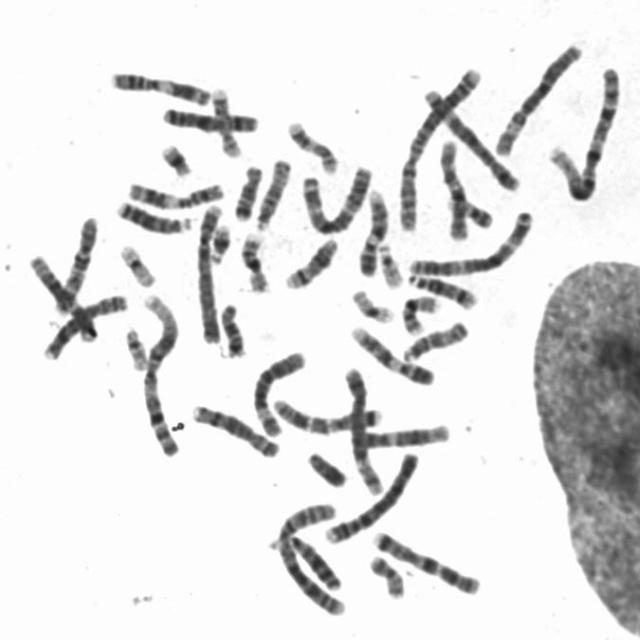A1: (541, 60, 624, 204), (135, 286, 185, 460)
A2: (390, 59, 486, 234), (267, 494, 348, 618)
A3: (401, 202, 539, 278), (294, 157, 375, 236)
B4: (319, 444, 423, 546), (188, 195, 226, 345)
B5: (414, 77, 522, 193), (337, 360, 386, 496)
C10: (48, 208, 100, 316), (432, 131, 472, 242)
C11: (102, 63, 214, 107), (120, 172, 227, 210)
C12: (22, 246, 100, 344), (347, 415, 453, 450)
C6: (486, 34, 586, 158), (245, 342, 309, 438)
C7: (365, 523, 485, 597), (266, 392, 384, 436)
C8: (37, 287, 130, 362), (184, 396, 282, 459)
C9: (344, 318, 437, 387), (351, 181, 392, 278)
D13: (268, 521, 345, 594), (110, 193, 193, 236)
D14: (278, 230, 341, 290), (401, 266, 480, 310)
D15: (396, 312, 472, 364), (248, 151, 294, 231)
E16: (232, 225, 272, 294), (394, 288, 443, 336)
E17: (280, 112, 341, 176), (204, 81, 246, 160)
E18: (227, 156, 266, 222), (212, 295, 248, 359)
F19: (112, 236, 158, 288), (344, 281, 396, 325)
F20: (362, 546, 408, 601), (440, 190, 495, 229)
G21: (153, 136, 194, 178), (204, 217, 234, 264)
G22: (371, 236, 405, 289), (118, 319, 150, 372)
X: (156, 99, 260, 134)
Y: (300, 443, 350, 489)
